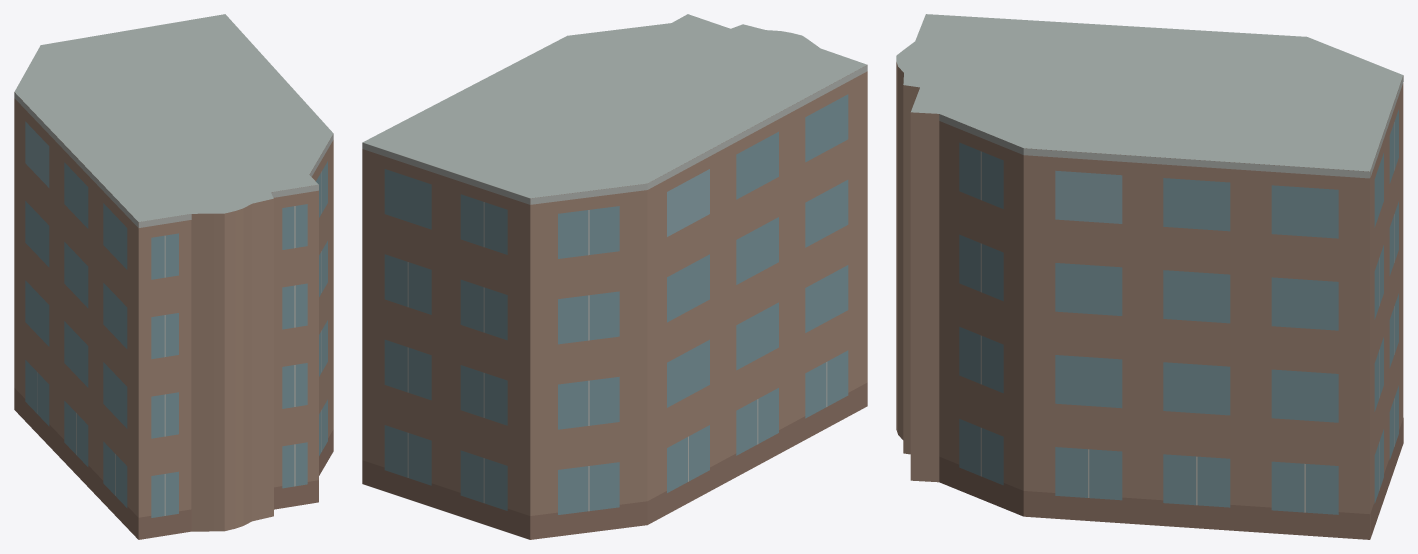
Rendered from survey-upis-33019893.glb.
3 views of the same model, side by side, from view 1: azimuth 30°, elevation 25°; view 2: azimuth 150°, elevation 25°; view 3: azimuth 270°, elevation 25° (orthographic). The views are drawn at different scales.
Parts seen in each view (by area): view 1: survey-upis-33019893.tmp; view 2: survey-upis-33019893.tmp; view 3: survey-upis-33019893.tmp.
Part boxes in pixels (box(x1,y1,x2,y2)): survey-upis-33019893.tmp: box(14, 14, 333, 539); survey-upis-33019893.tmp: box(362, 14, 867, 539); survey-upis-33019893.tmp: box(896, 14, 1403, 539).
Size of the model in its own units: 11.84 by 12.9 by 16.09.
